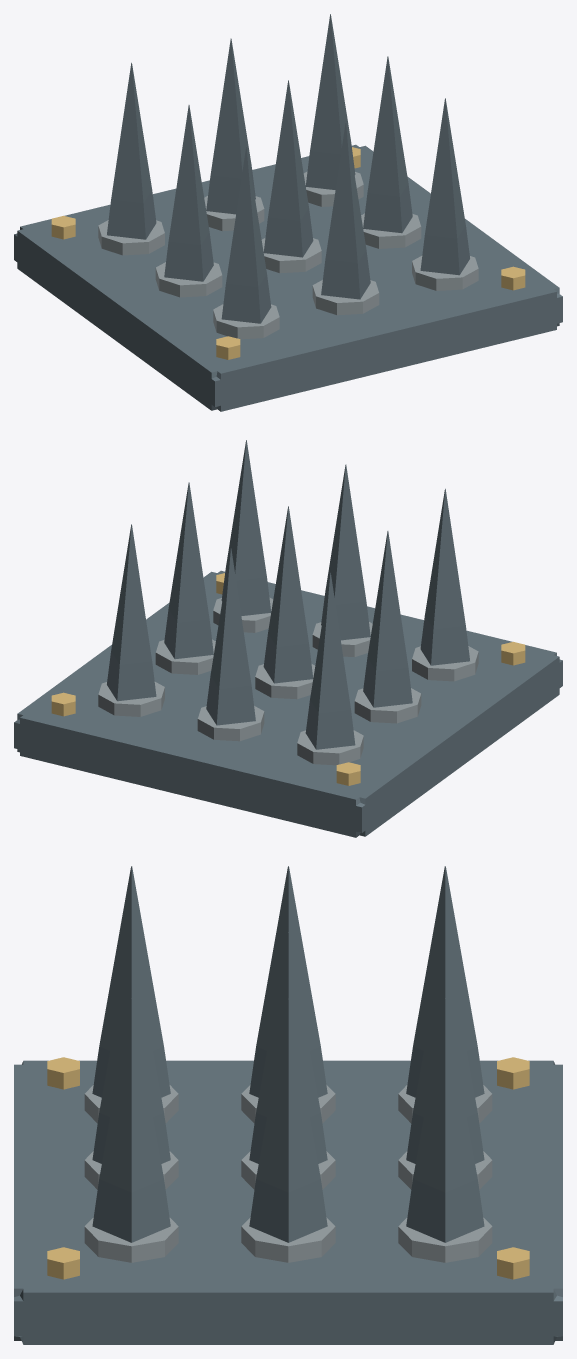
The model's file is SpikeTrap.fbx.
3 views of the same model, one above another, from view 1: azimuth 30°, elevation 25°; view 2: azimuth 150°, elevation 25°; view 3: azimuth 270°, elevation 25° (orthographic). The views are drawn at different scales.
Parts seen in each view (by area): view 1: SpikeTrap; view 2: SpikeTrap; view 3: SpikeTrap.
Boxes of the visible parts, x1=… form: SpikeTrap: x1=14, y1=14, x2=562, y2=411; SpikeTrap: x1=14, y1=440, x2=562, y2=837; SpikeTrap: x1=14, y1=866, x2=562, y2=1344.
Bounding box in the file's own units: 105 × 62.5 × 105.
